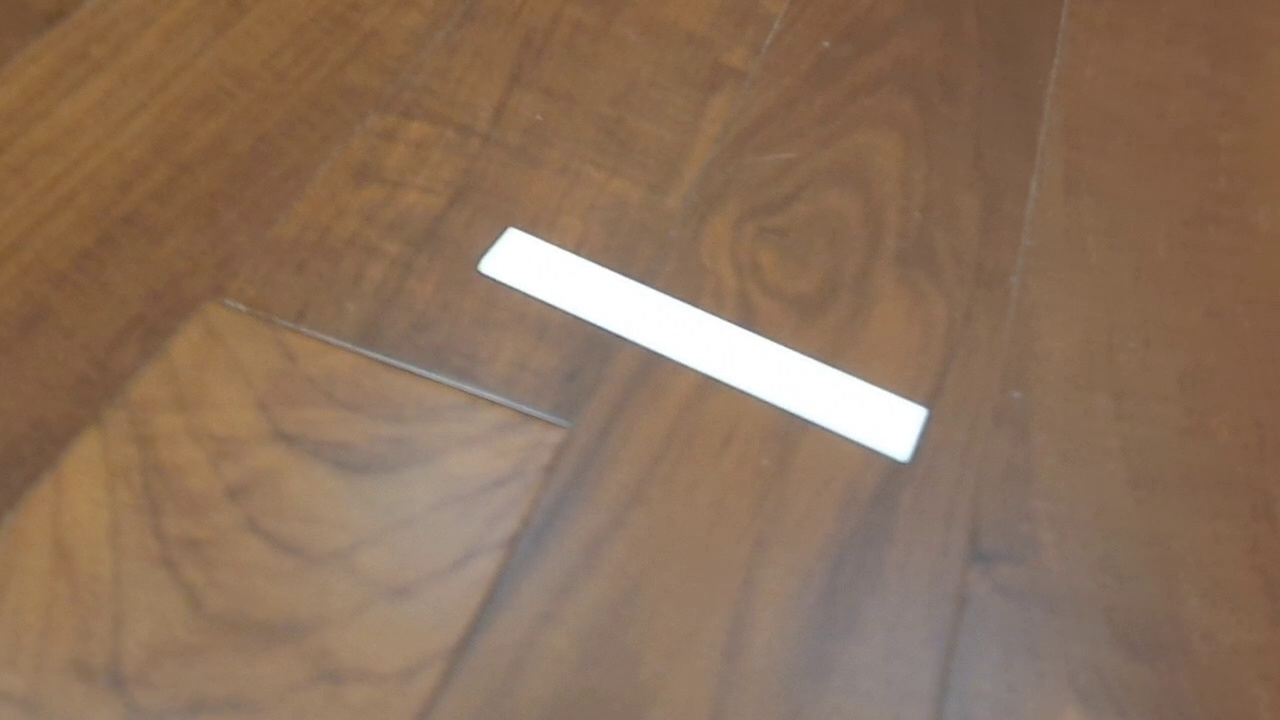ruler: (475, 224, 931, 465)
